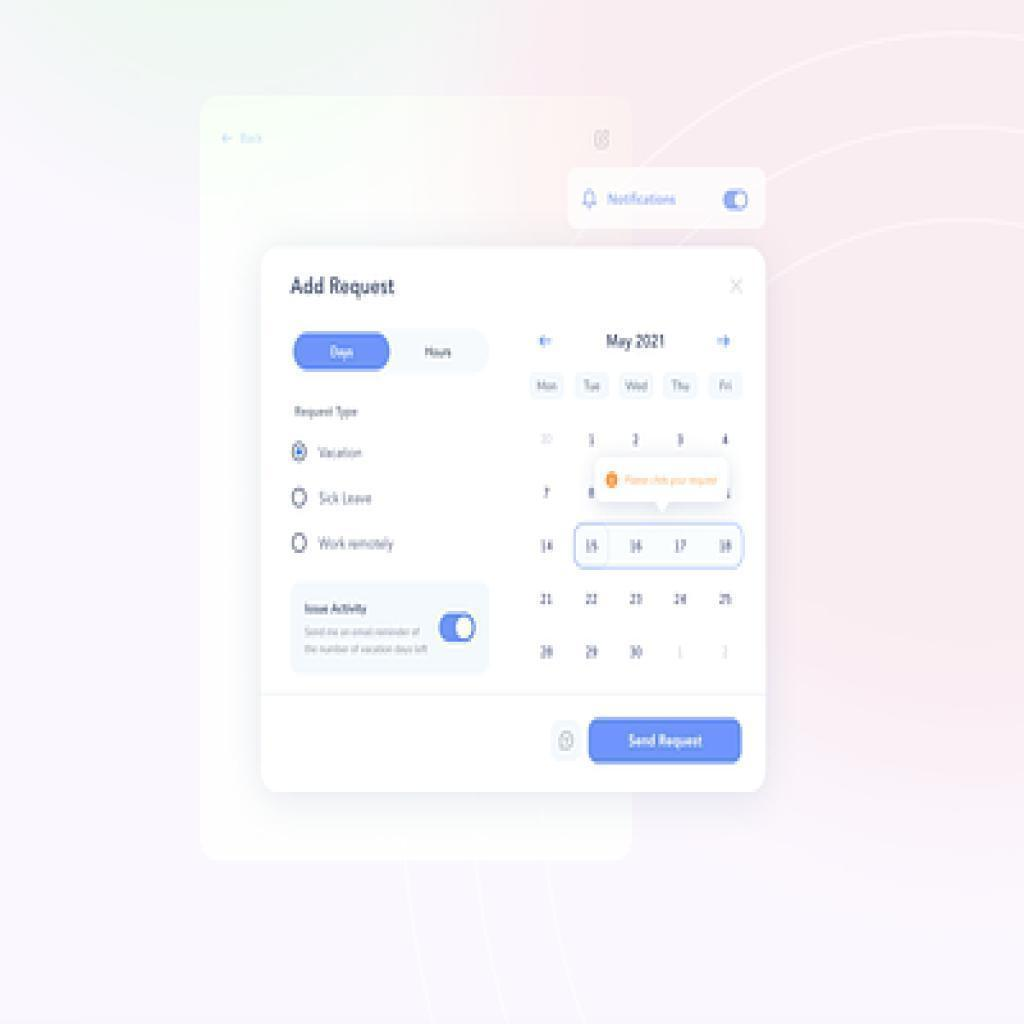button: (588, 716, 743, 764), (392, 328, 488, 374), (293, 329, 391, 373)
label: (287, 272, 400, 298), (313, 533, 396, 557), (604, 186, 681, 208), (301, 598, 370, 620), (292, 403, 361, 421), (316, 487, 376, 507), (315, 444, 364, 461)
radio: (289, 438, 310, 465), (289, 484, 308, 511), (290, 532, 309, 554)
switch: (438, 612, 477, 643), (722, 188, 748, 211)
